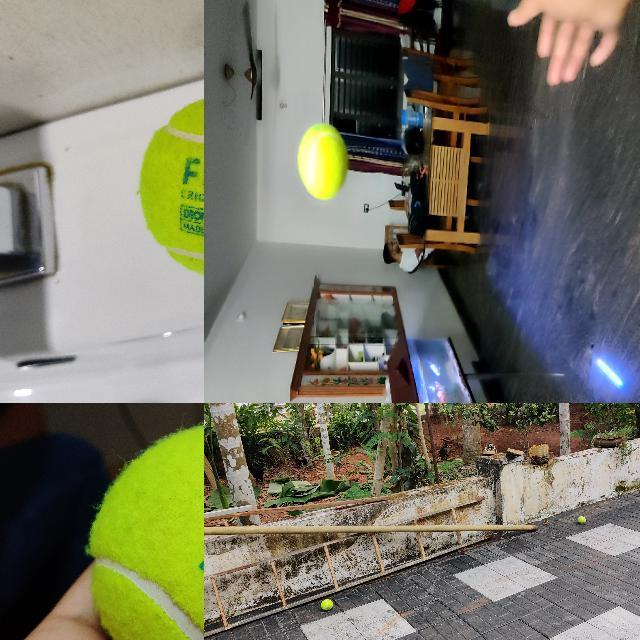tennis-ball: (87, 425, 203, 639), (136, 94, 203, 280), (297, 123, 349, 200), (321, 599, 333, 610), (577, 516, 585, 524)
